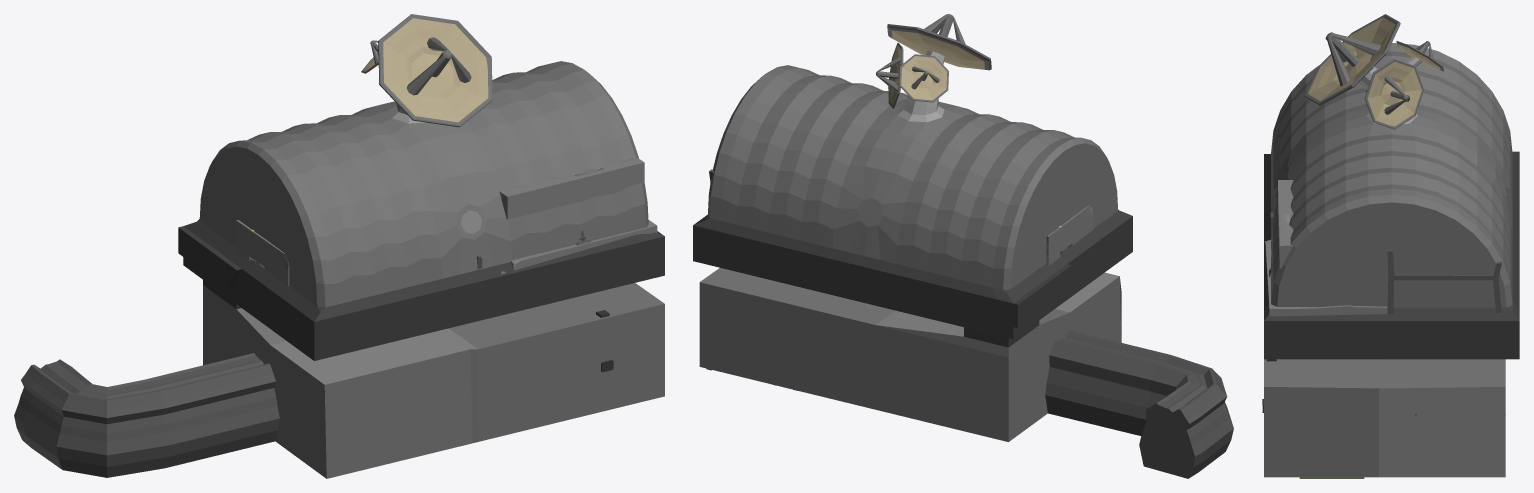
File: BackupInterioorModel 4.fbx
The picture shows the model from 3 angles, left to right: view 1: azimuth 30°, elevation 25°; view 2: azimuth 150°, elevation 25°; view 3: azimuth 270°, elevation 25°; orthographic projection. The views are drawn at different scales.
Visible parts, largest first — view 1: Cylinder.040, Icosphere.001, Cube.126; view 2: Cylinder.040, Cube.126; view 3: Cylinder.040, Icosphere.001, Cube.125.
Part boxes in pixels (left/top/right/bottom): Cylinder.040: left=14, top=14, right=664, bottom=478; Icosphere.001: left=499, top=157, right=657, bottom=274; Cube.126: left=236, top=220, right=289, bottom=285; Cylinder.040: left=693, top=14, right=1233, bottom=478; Cube.126: left=1046, top=204, right=1093, bottom=265; Cylinder.040: left=1264, top=14, right=1519, bottom=477; Icosphere.001: left=1265, top=180, right=1387, bottom=316; Cube.125: left=1387, top=250, right=1501, bottom=313.
Size of the model in its own units: 1639 by 1117 by 697.
